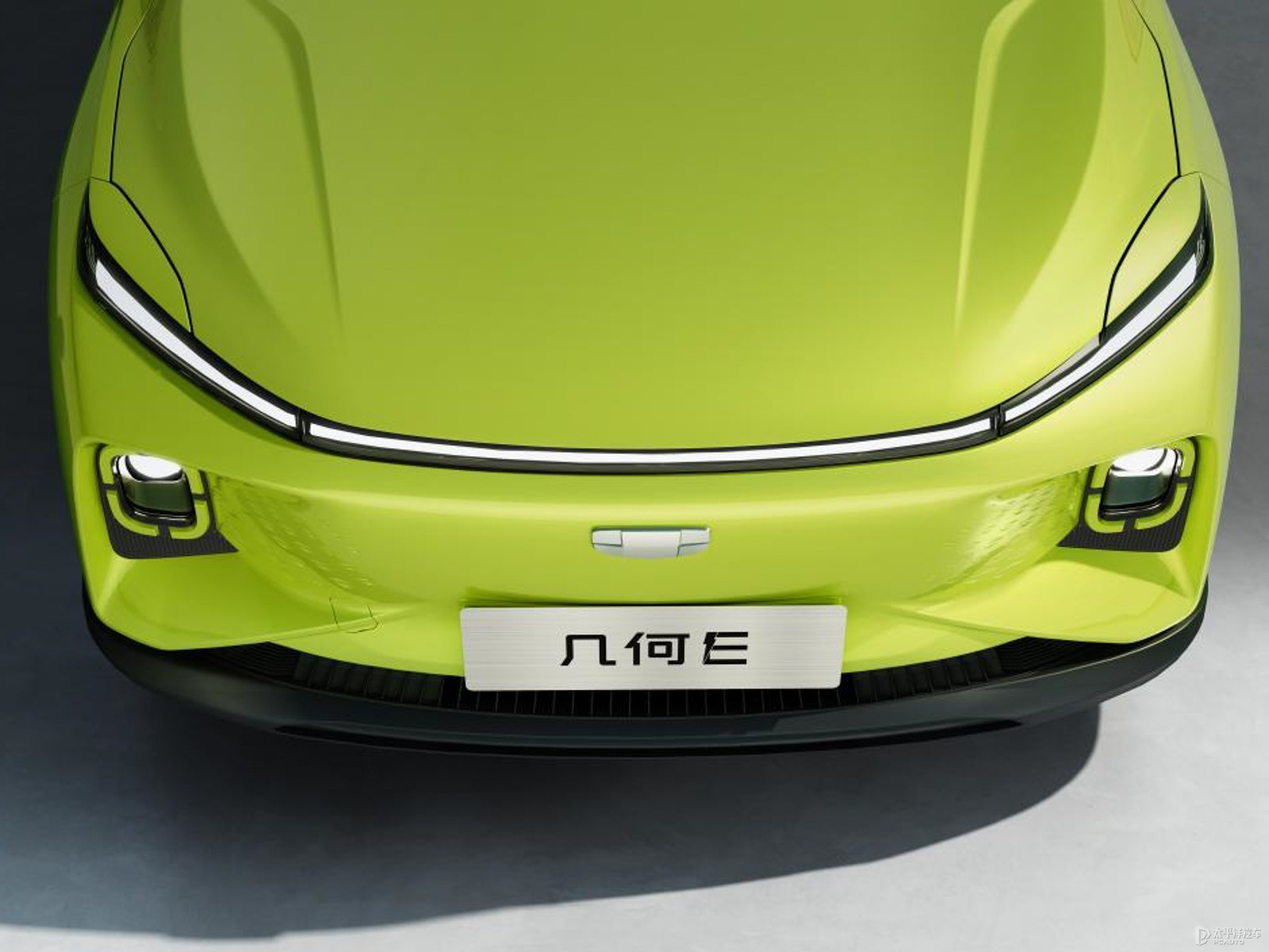GEOMETRY: (593, 532, 709, 560)
